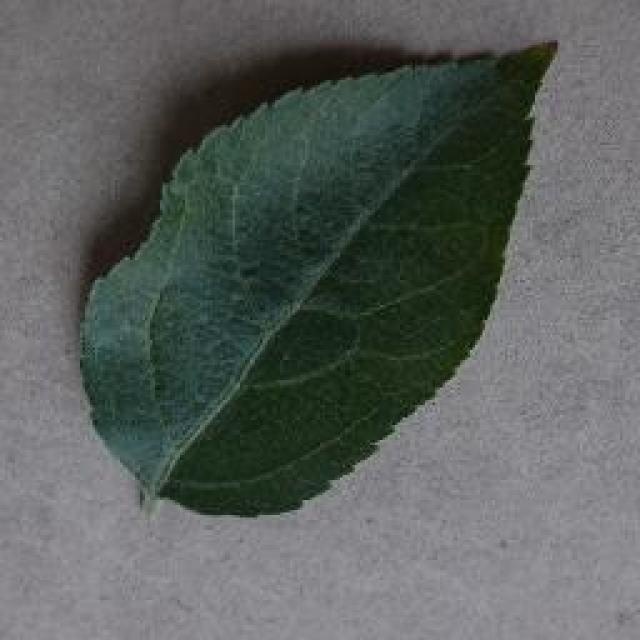apple scab disease: (75, 32, 560, 520)
